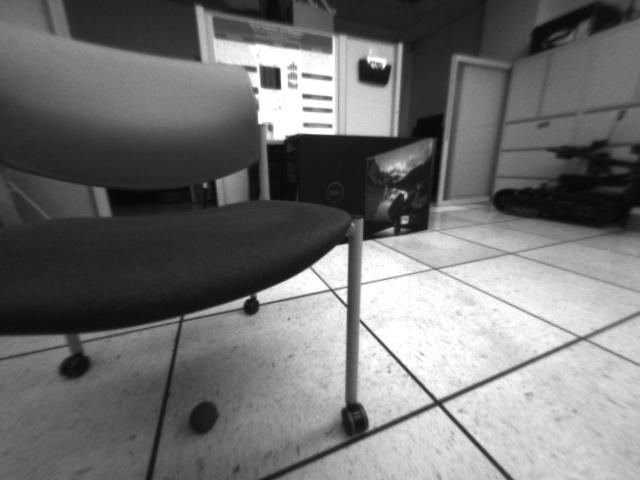dogtoy: (181, 394, 226, 438)
